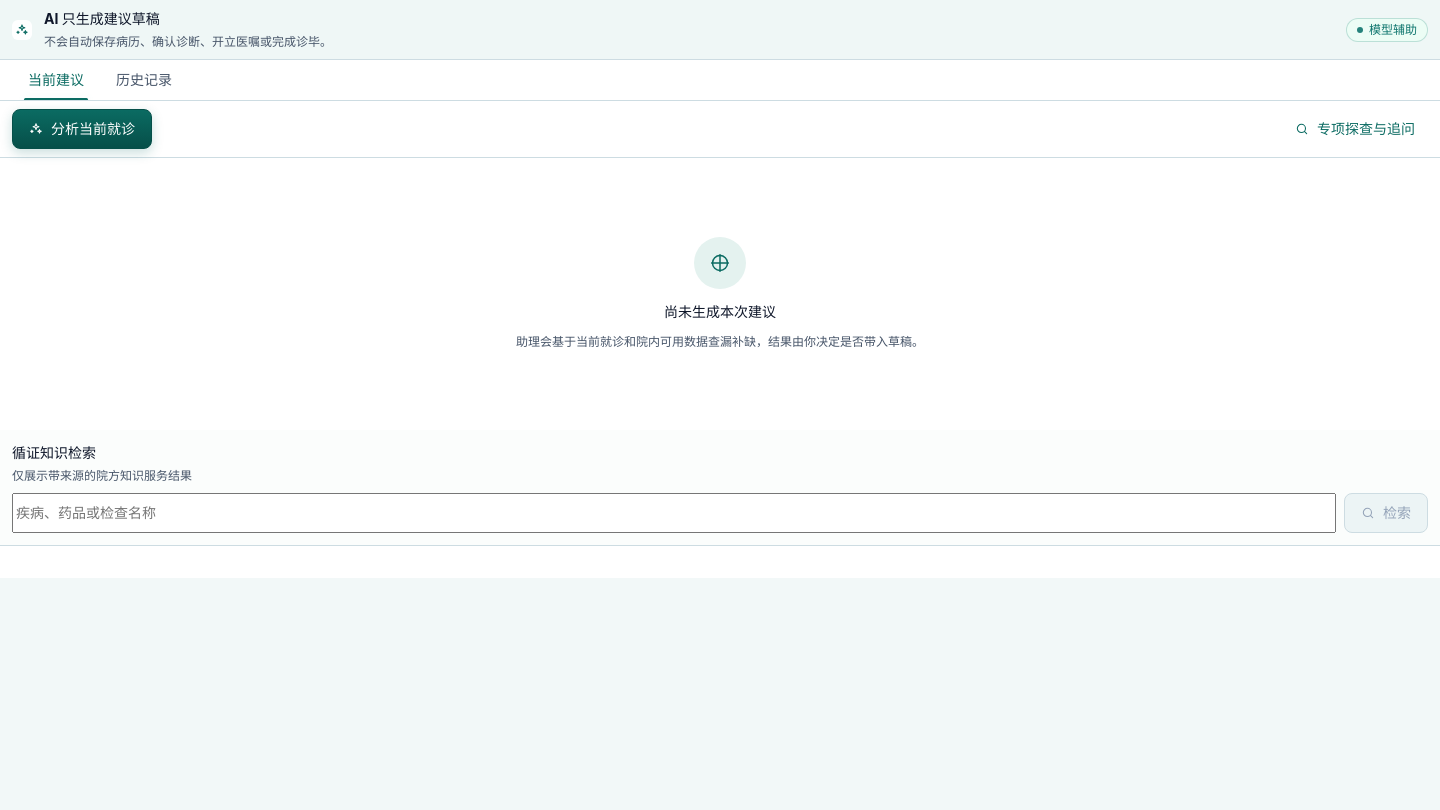
Test case: ClinicalAiAssistantPanel layout and clinical usability optimization › collapses prompt textarea by default and expands on demand, preserves actionable catalog alerts, and provides evidence and insert buttons
Expected: the field with placeholder "例如：补全病历要点" is not shown
Expected: the button "分析当前就诊" is shown, [12,109,152,149]
// 点击折叠入口可展开专项探查输入框与快捷标签
Click the button "专项探查与追问". click: (1355, 129)
box: [1282,113,1428,145]
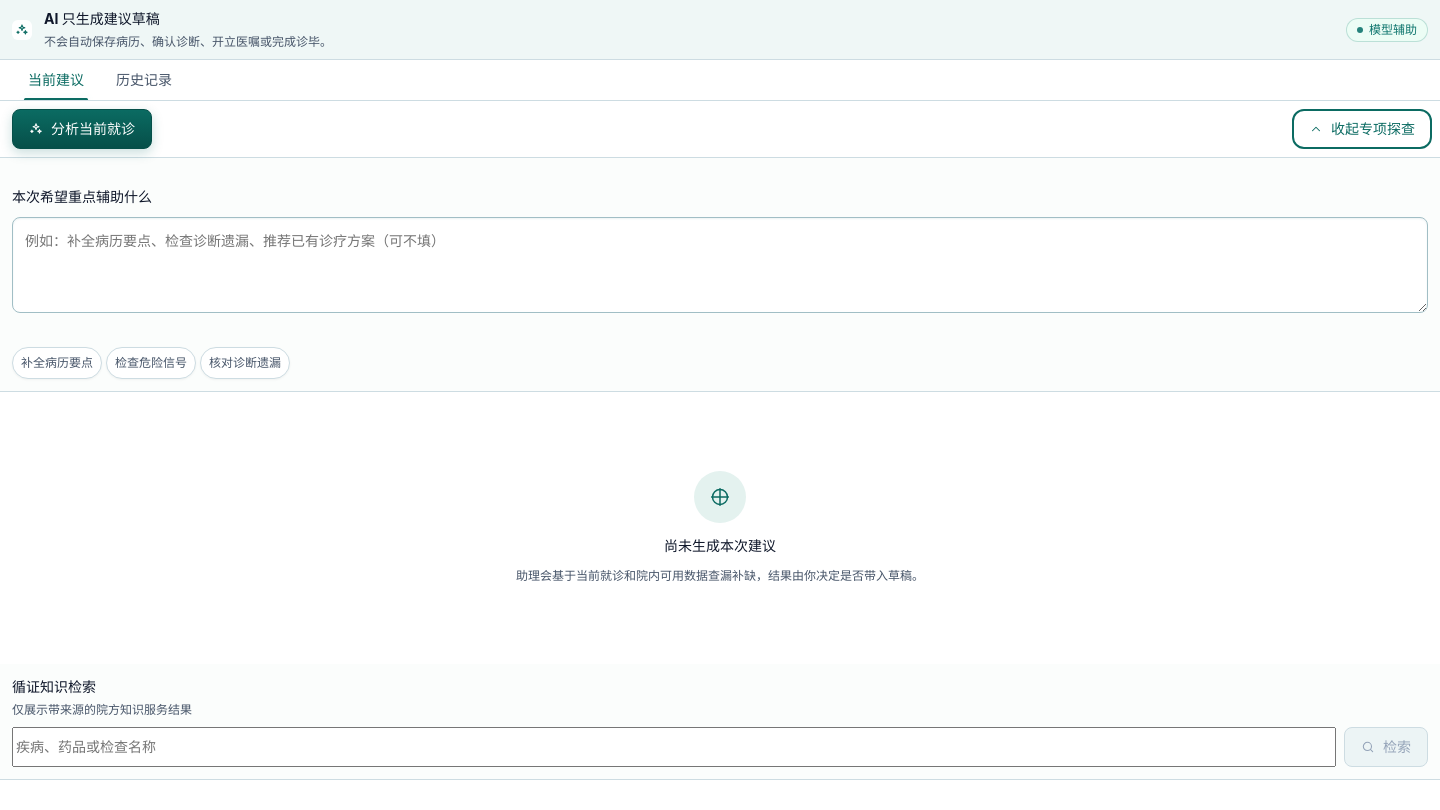
Now the text box with placeholder "例如：补全病历要点、检查诊断遗漏、推荐已有诊疗方案（可不填）" is shown, box [12,217,1428,313]
Now the button "补全病历要点" is shown, box [12,347,102,379]
// 点击“分析当前就诊”生成建议
Click the button "分析当前就诊". click: (82, 129)
box: [12,109,152,149]
(page scrolled)
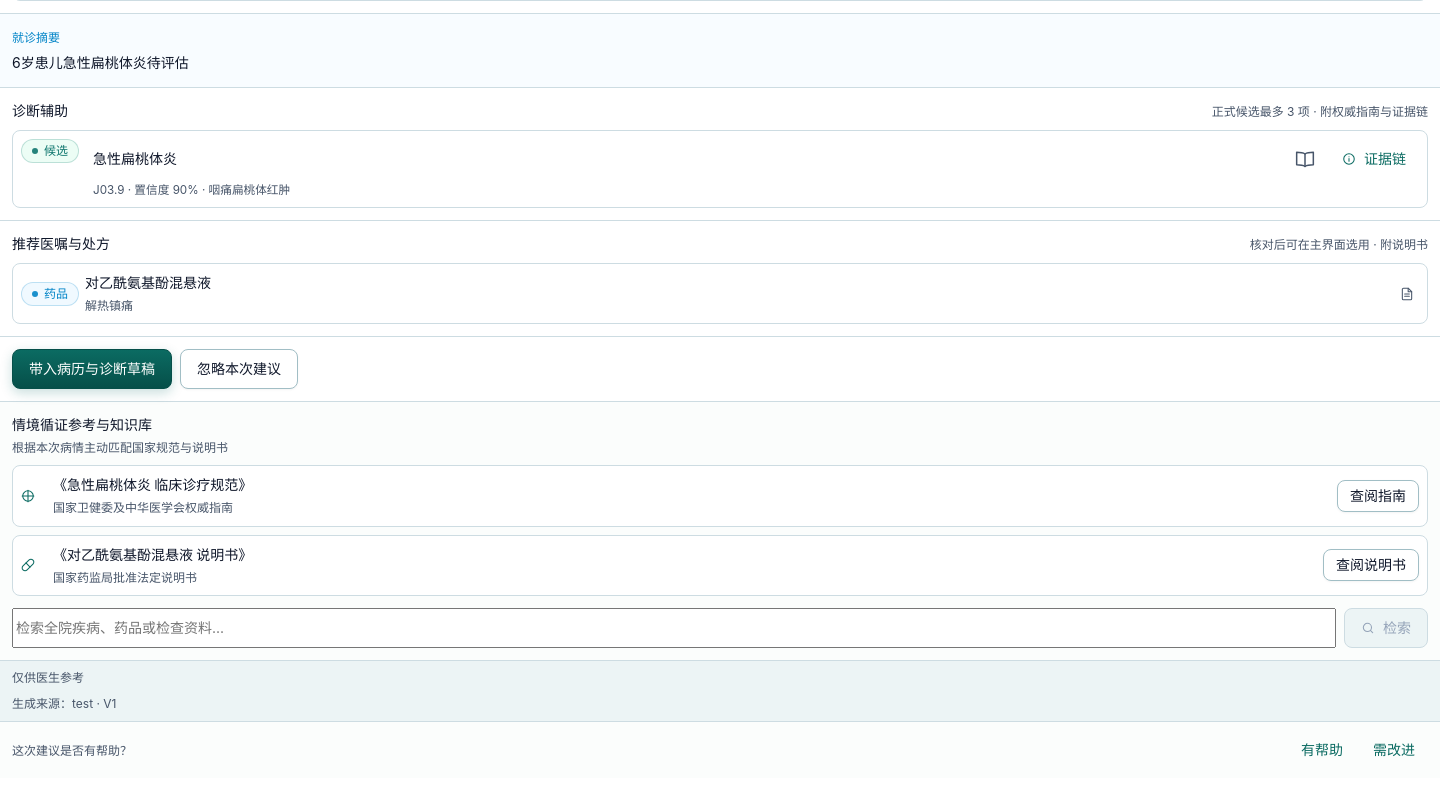
Now the button named "指南" is shown, box [1285,139,1325,179]
Now the button "证据链" is shown, box [1329,143,1419,175]
Now the button named "说明书" is shown, box [1395,282,1419,306]
// 点击“查阅指南”按钮直接调阅权威指南模态框
Click the button "查阅指南". click: (1378, 496)
box: [1337,480,1419,512]
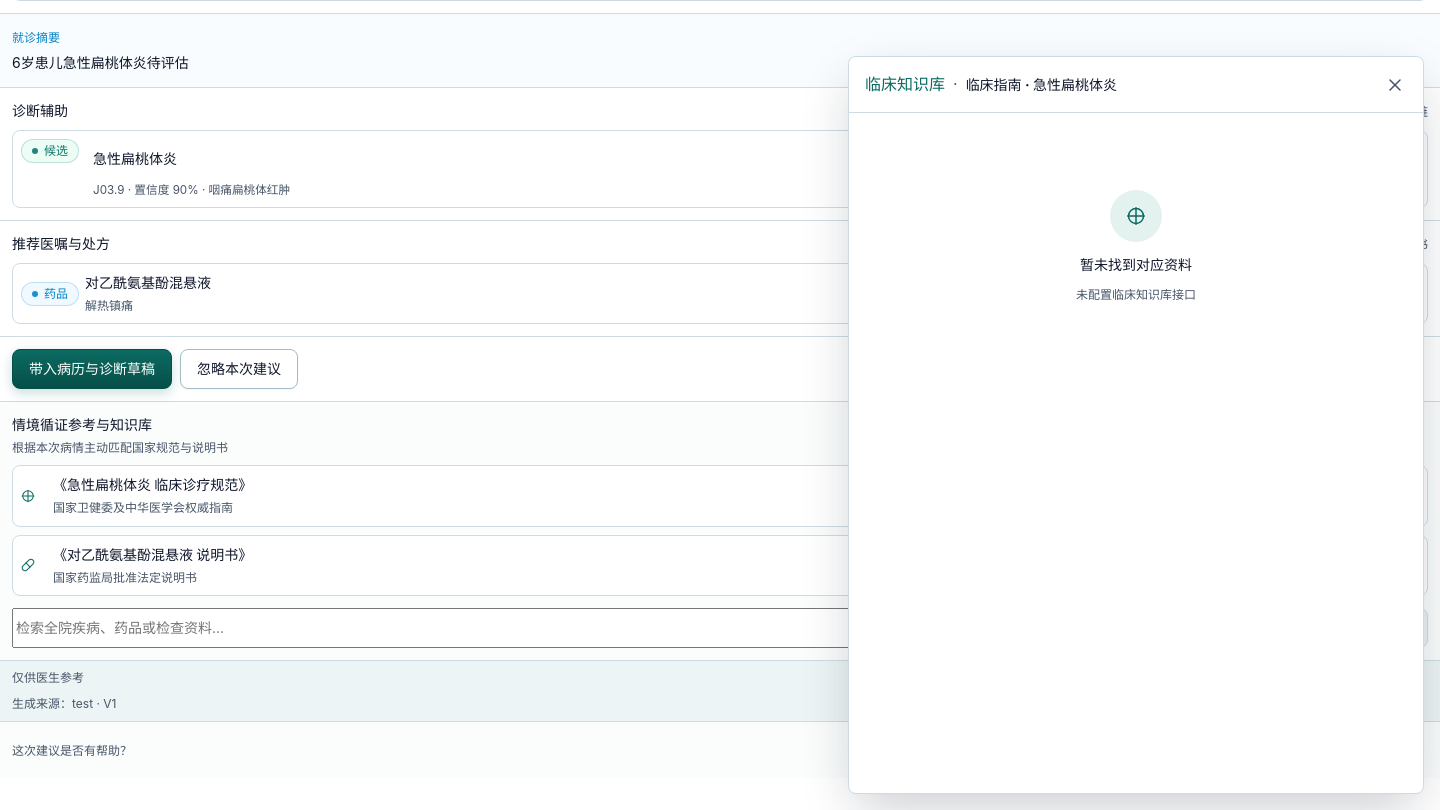
Now the dialog "临床知识库 · 临床指南 · 急性扁桃体炎 暂未找到对应资料 未配置临床知识库接口" is shown, box [848,56,1424,794]
